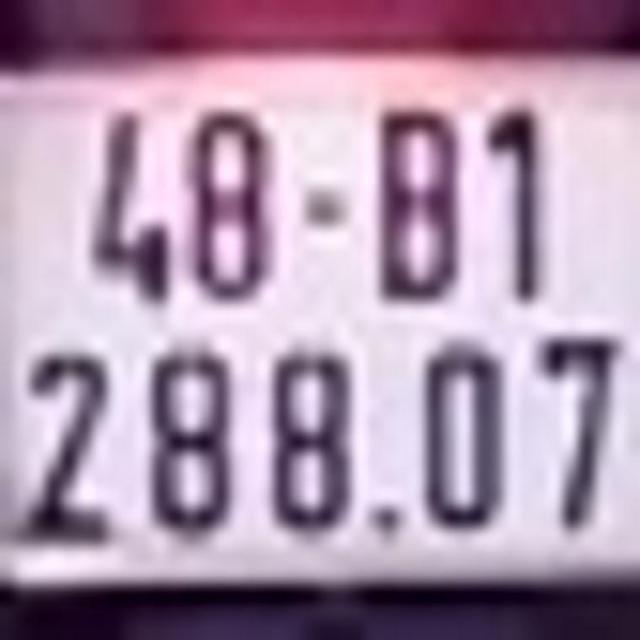0: (425, 332, 503, 527)
1: (482, 101, 540, 302)
2: (28, 347, 112, 544)
4: (94, 108, 172, 300)
7: (536, 326, 613, 524)
8: (188, 106, 270, 304), (150, 347, 230, 535), (272, 345, 351, 528)
B: (375, 105, 460, 304)
